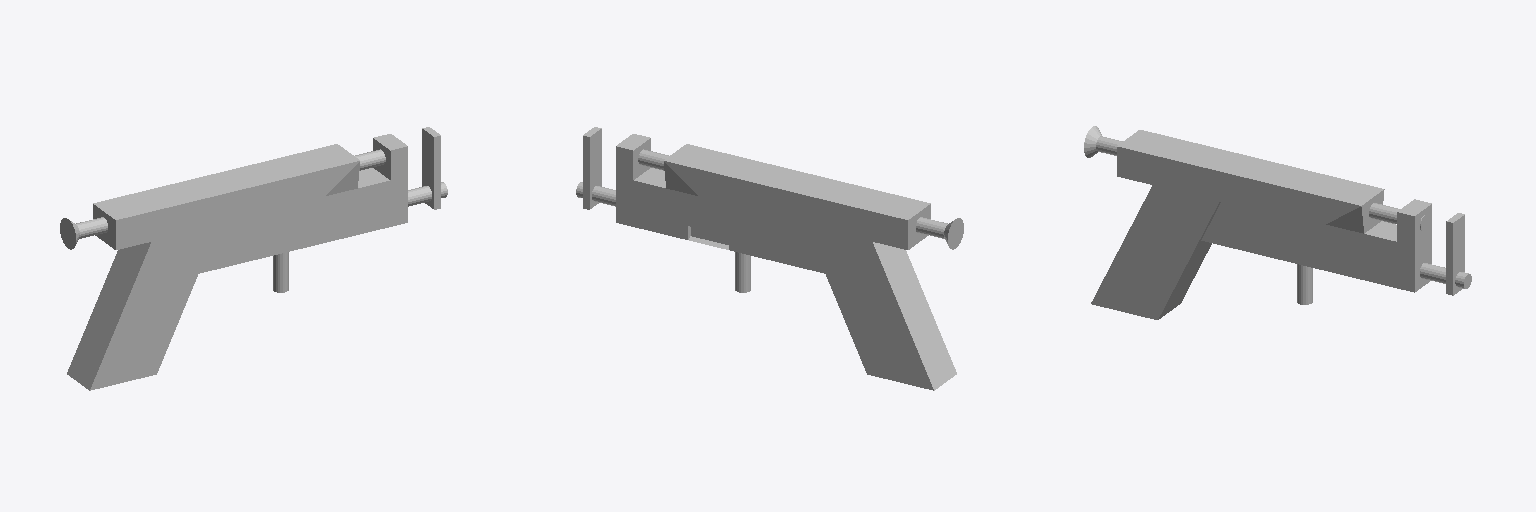
3 views of the same model, side by side, from view 1: azimuth 30°, elevation 25°; view 2: azimuth 150°, elevation 25°; view 3: azimuth 330°, elevation 25° (orthographic).
Parts seen in each view (by area): view 1: pCube1, pCylinder3, pCube2, pCylinder2; view 2: pCube1, pCylinder3, pCube2, pCylinder2; view 3: pCube1, pCube2, pCylinder3, pCylinder1, pCylinder2.
Boxes of the visible parts, <box> form: pCube1: <box>67,134,407,390</box>; pCylinder3: <box>60,149,385,249</box>; pCube2: <box>422,127,440,209</box>; pCylinder2: <box>273,252,288,292</box>; pCube1: <box>616,134,956,390</box>; pCylinder3: <box>638,149,963,249</box>; pCube2: <box>583,127,601,209</box>; pCylinder2: <box>735,252,750,292</box>; pCube1: <box>1091,130,1431,319</box>; pCube2: <box>1446,213,1464,295</box>; pCylinder3: <box>1084,126,1428,230</box>; pCylinder1: <box>1420,263,1471,288</box>; pCylinder2: <box>1297,264,1312,304</box>.
Bounding box in the file's own units: 2.16 × 0.9123 × 0.2299.